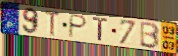7: (118, 18, 138, 46)
9: (21, 7, 41, 36)
B: (138, 21, 161, 50)
P: (67, 13, 89, 39)
T: (44, 10, 62, 39), (92, 17, 110, 43)
